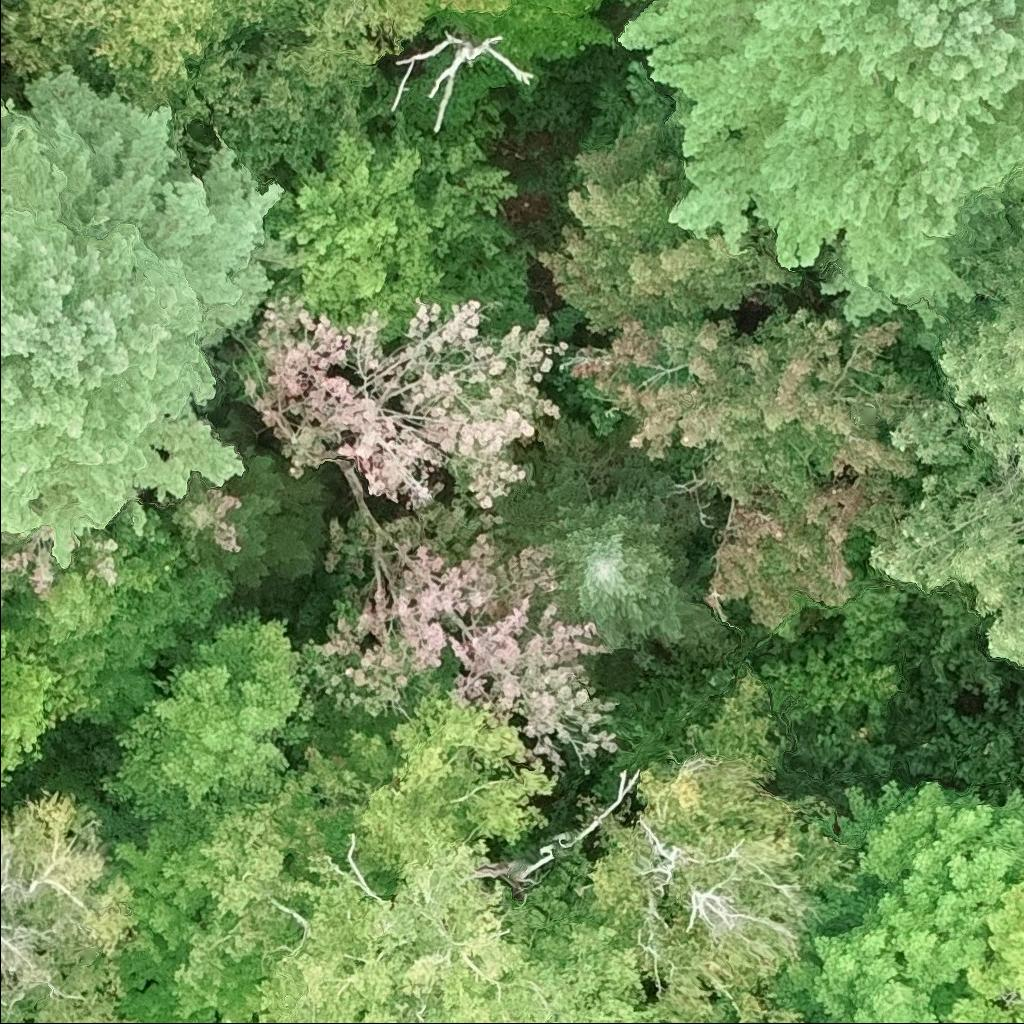crown: (0, 64, 294, 567), (254, 683, 667, 1023), (612, 0, 1023, 324), (579, 669, 857, 1023), (316, 498, 620, 786), (566, 301, 938, 520), (233, 281, 570, 513), (869, 204, 1023, 664), (263, 113, 538, 348), (534, 109, 808, 336), (773, 775, 1023, 1023), (483, 410, 729, 649), (88, 601, 317, 846), (0, 505, 238, 730), (706, 469, 922, 639), (0, 0, 252, 131), (0, 783, 136, 1023), (151, 435, 336, 588), (233, 0, 437, 82), (0, 626, 103, 788), (434, 0, 616, 63), (0, 527, 55, 609)
